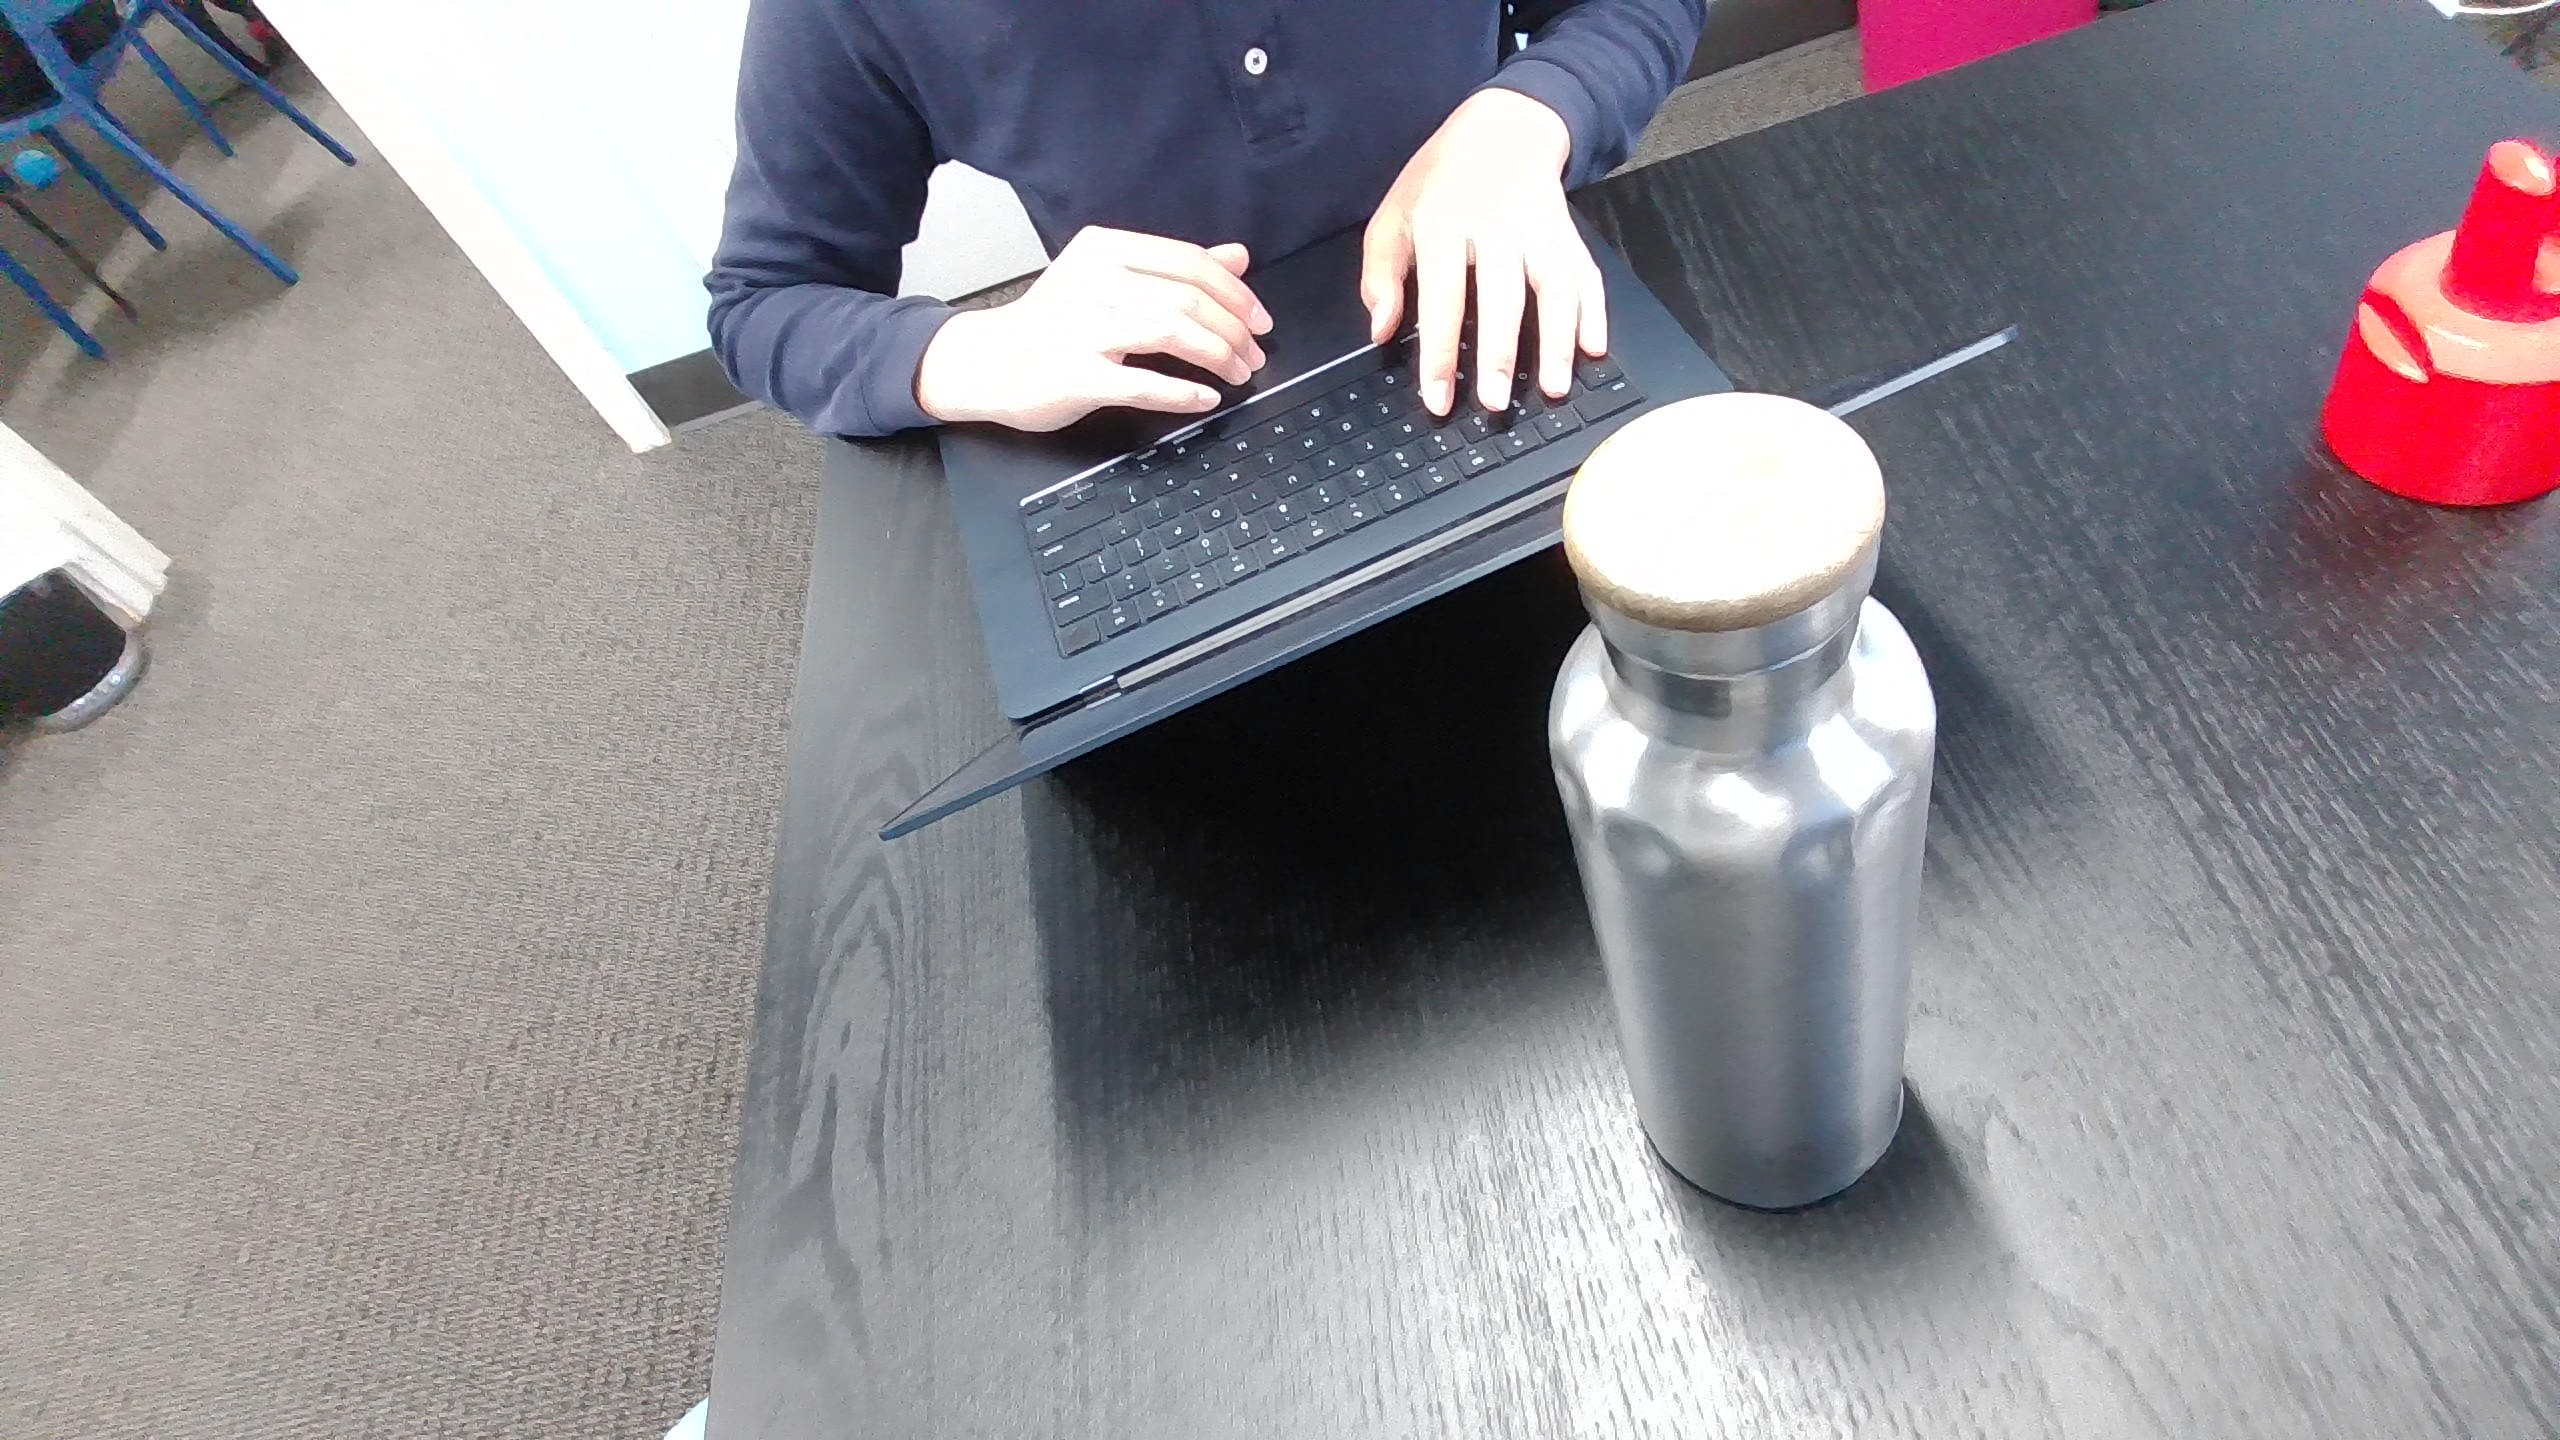Water_Bottle: (1523, 418, 1953, 1229)
